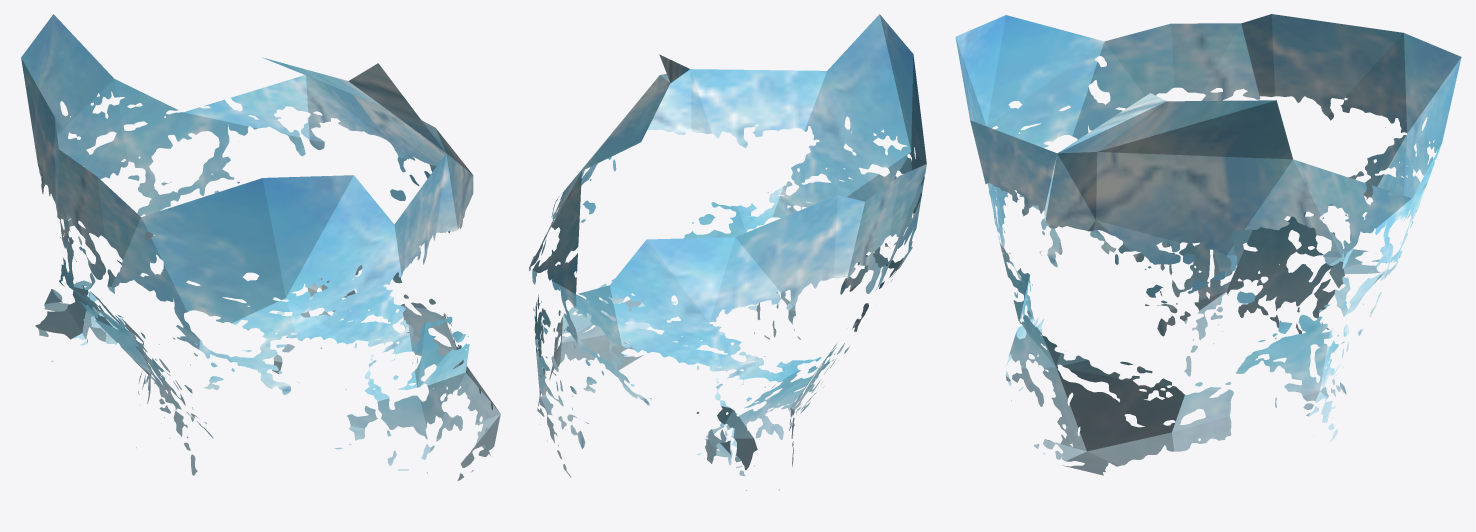
The model's file is wolverine_torso_iced.glb.
3 renders of one model, left to right at view 1: azimuth 30°, elevation 25°; view 2: azimuth 150°, elevation 25°; view 3: azimuth 270°, elevation 25°, orthographic. The views are drawn at different scales.
Visible parts, largest first — view 1: wolverine_torso_iced_0; view 2: wolverine_torso_iced_0; view 3: wolverine_torso_iced_0.
Part boxes in pixels (x1,y1,x2,y2): wolverine_torso_iced_0: (21,14,500,480); wolverine_torso_iced_0: (529,14,926,490); wolverine_torso_iced_0: (955,14,1461,475).
Bounding box in the file's own units: 20.32 × 22.94 × 26.64.
1 material, 1 textured.
